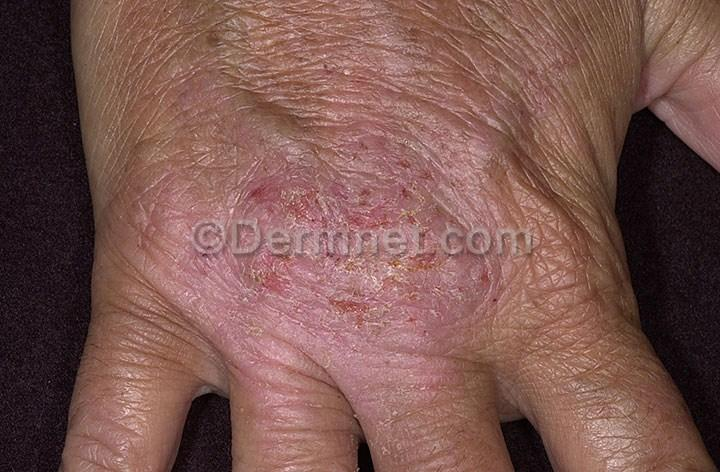Eczema: (207, 169, 344, 307), (349, 206, 437, 326), (213, 97, 338, 173), (334, 123, 441, 205), (427, 207, 501, 322), (254, 307, 366, 372), (189, 2, 286, 77), (414, 76, 515, 148), (254, 362, 344, 442), (107, 191, 199, 269), (134, 124, 211, 204), (191, 306, 276, 373), (389, 323, 454, 402), (441, 139, 499, 210), (361, 322, 398, 430), (512, 51, 565, 123), (156, 262, 224, 318), (373, 17, 441, 62), (561, 43, 608, 91)
